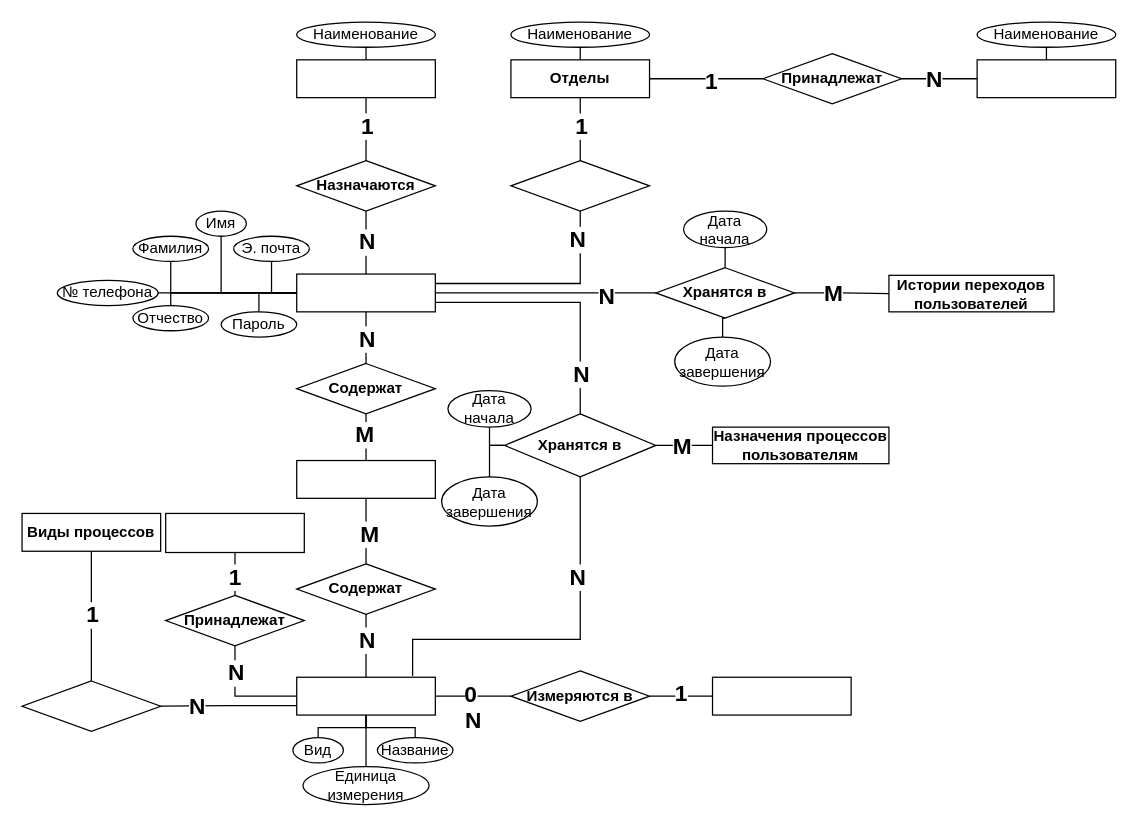
Image size: 1138x827. Some labels were removed from this diagram. Each missing label, with the box of its shape:
Единицы измерения: (711, 676, 851, 715)
Имеются: (21, 680, 161, 731)
Категории процессов: (164, 512, 304, 553)
Отчёты: (295, 459, 435, 498)
Пользователи: (295, 273, 435, 312)
Процессы: (295, 676, 435, 715)
Работают в: (510, 159, 650, 211)
Роли: (295, 59, 435, 98)
Секторы: (976, 59, 1116, 98)
